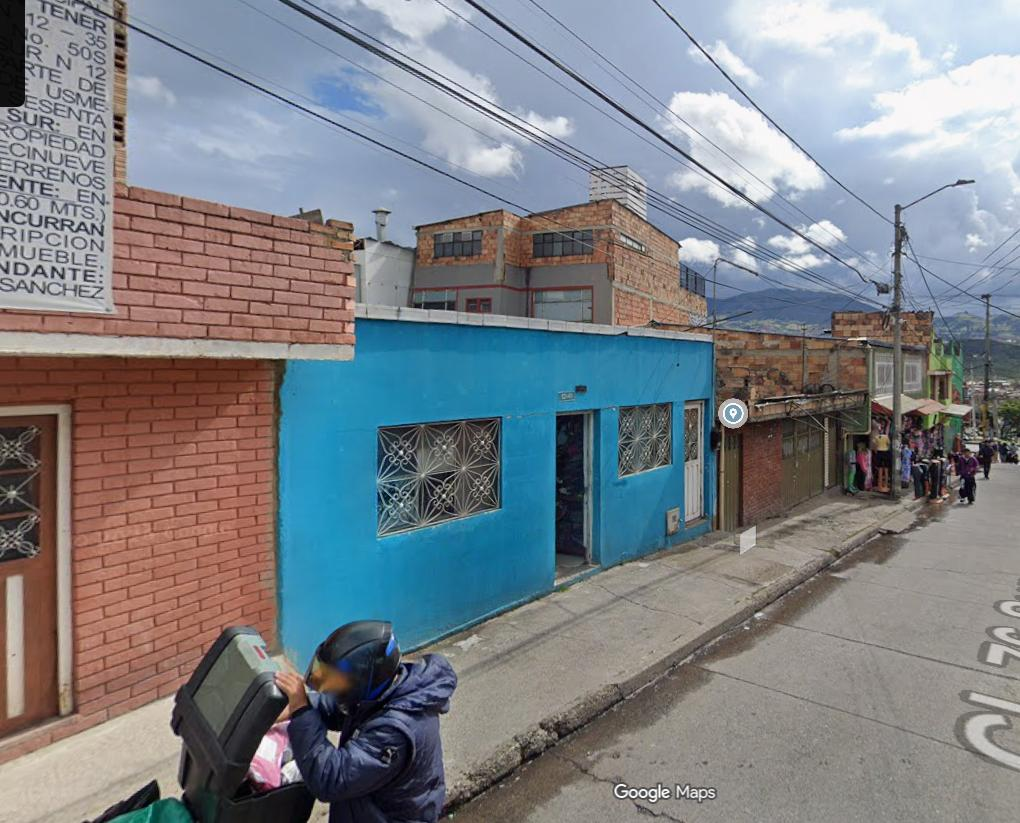casa: (0, 186, 352, 761), (277, 311, 714, 666), (716, 331, 869, 529)
poste: (892, 179, 973, 473)
